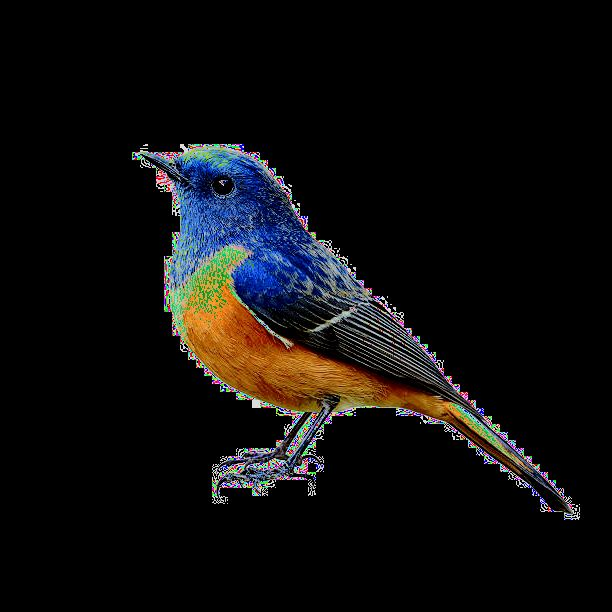Bird: (129, 135, 583, 532)
